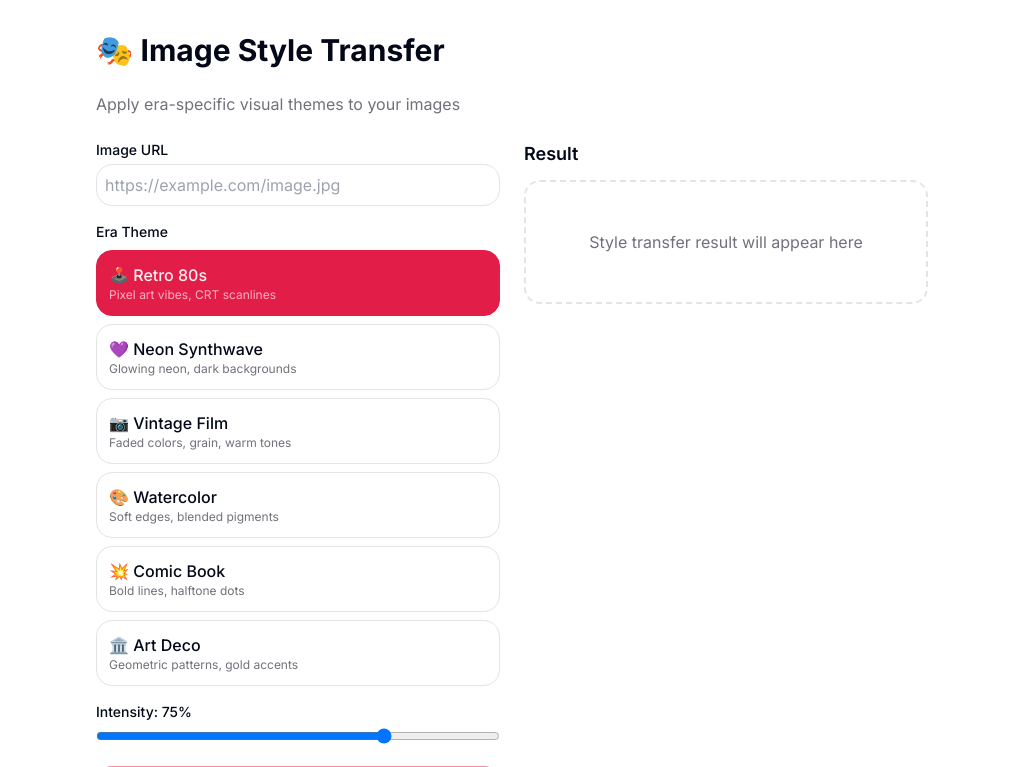
Test: StyleTransfer › enables transfer when URL is provided
Type "https://example.com/img.jpg" into the field with test id "source-url-input". click: [298, 185]
box: 96,164 -> 500,206
(page scrolled)
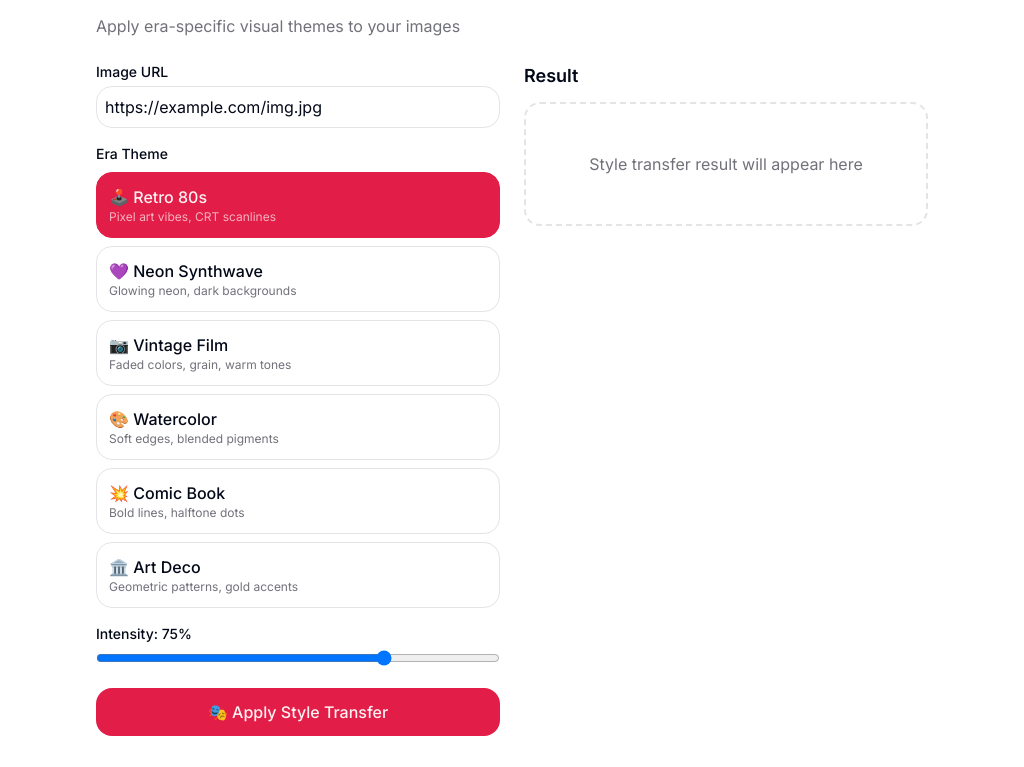
Now the button with test id "transfer-btn" is enabled, box 96,688 -> 500,736
